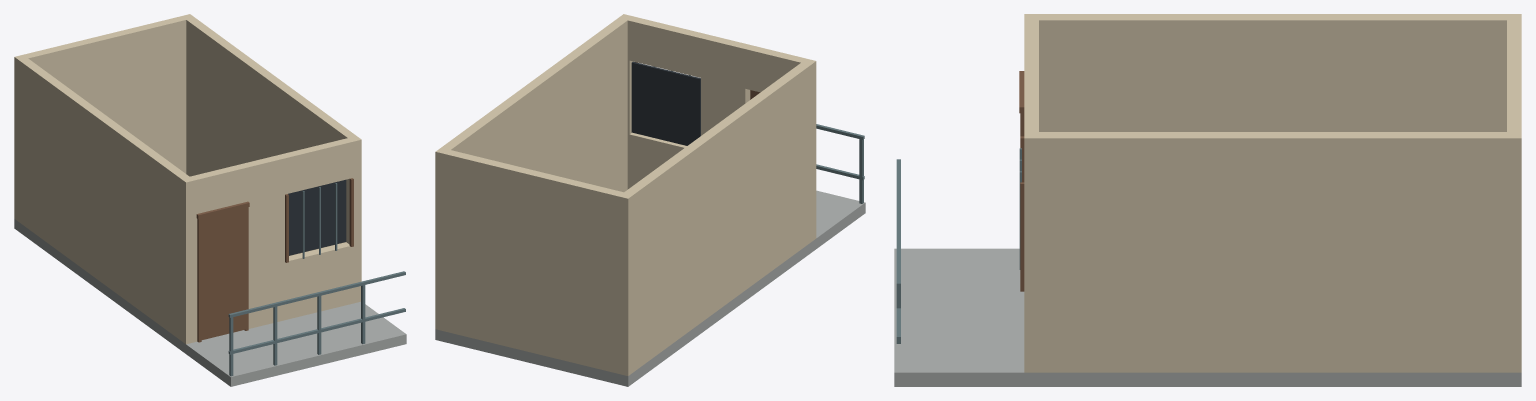
3 renders of one model, left to right at view 1: azimuth 30°, elevation 25°; view 2: azimuth 150°, elevation 25°; view 3: azimuth 270°, elevation 25°, orthographic. The views are drawn at different scales.
Visible parts, largest first — view 1: chawl_bay_left_wall, chawl_bay_right_wall, chawl_bay_back_wall, chawl_bay_floor, chawl_bay_middle_pier, chawl_bay_opening_header, chawl_bay_door_leaf, chawl_bay_window_sill_wall, chawl_bay_window_recess, chawl_bay_left_pier, chawl_bay_right_pier, chawl_bay_rail_horizontal_1 (+4 smaller); view 2: chawl_bay_back_wall, chawl_bay_left_wall, chawl_bay_right_wall, chawl_bay_opening_header, chawl_bay_floor, chawl_bay_window_recess, chawl_bay_middle_pier, chawl_bay_window_sill_wall, chawl_bay_left_pier, chawl_bay_right_pier; view 3: chawl_bay_right_wall, chawl_bay_left_wall, chawl_bay_floor, chawl_bay_back_wall, chawl_bay_right_pier, chawl_bay_opening_header, chawl_bay_rail_horizontal_1.
Boxes of the visible parts, bbox=[...] form: chawl_bay_left_wall: bbox=[15, 55, 190, 342]; chawl_bay_right_wall: bbox=[185, 15, 356, 255]; chawl_bay_back_wall: bbox=[14, 14, 194, 221]; chawl_bay_floor: bbox=[14, 219, 406, 386]; chawl_bay_middle_pier: bbox=[241, 155, 286, 328]; chawl_bay_opening_header: bbox=[183, 136, 361, 218]; chawl_bay_door_leaf: bbox=[201, 208, 245, 339]; chawl_bay_window_sill_wall: bbox=[286, 242, 351, 319]; chawl_bay_window_recess: bbox=[288, 179, 346, 255]; chawl_bay_left_pier: bbox=[181, 175, 198, 344]; chawl_bay_right_pier: bbox=[346, 136, 361, 303]; chawl_bay_rail_horizontal_1: bbox=[228, 271, 405, 317]; chawl_bay_back_wall: bbox=[435, 148, 633, 375]; chawl_bay_left_wall: bbox=[619, 62, 813, 371]; chawl_bay_right_wall: bbox=[438, 18, 627, 192]; chawl_bay_opening_header: bbox=[618, 14, 816, 101]; chawl_bay_floor: bbox=[435, 190, 865, 386]; chawl_bay_window_recess: bbox=[631, 61, 700, 145]; chawl_bay_middle_pier: bbox=[701, 34, 750, 135]; chawl_bay_window_sill_wall: bbox=[629, 132, 686, 187]; chawl_bay_left_pier: bbox=[796, 61, 816, 239]; chawl_bay_right_pier: bbox=[621, 16, 634, 189]; chawl_bay_right_wall: bbox=[1031, 132, 1521, 372]; chawl_bay_left_wall: bbox=[1032, 14, 1521, 131]; chawl_bay_floor: bbox=[894, 248, 1521, 386]; chawl_bay_back_wall: bbox=[1507, 14, 1521, 372]; chawl_bay_right_pier: bbox=[1024, 133, 1038, 372]; chawl_bay_opening_header: bbox=[1024, 14, 1038, 190]; chawl_bay_rail_horizontal_1: bbox=[896, 159, 900, 287].
Bounding box in the file's own units: 3 × 2.8 × 6.4.
